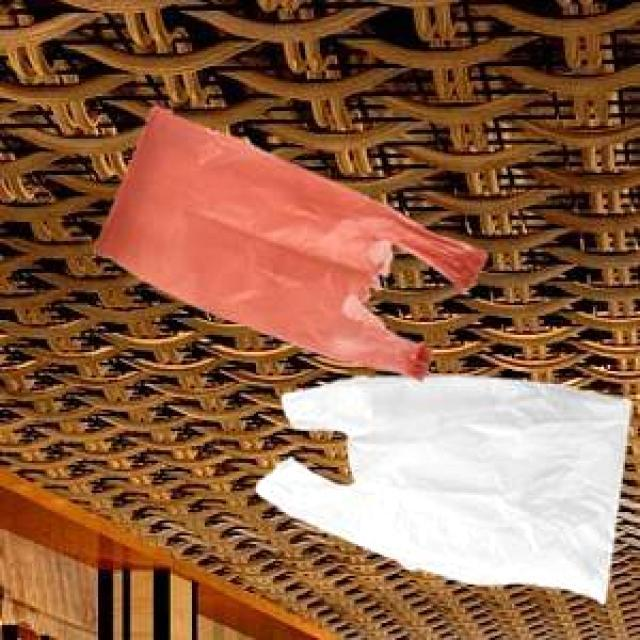Plastic_Bag: (90, 104, 483, 378), (252, 372, 628, 601)
